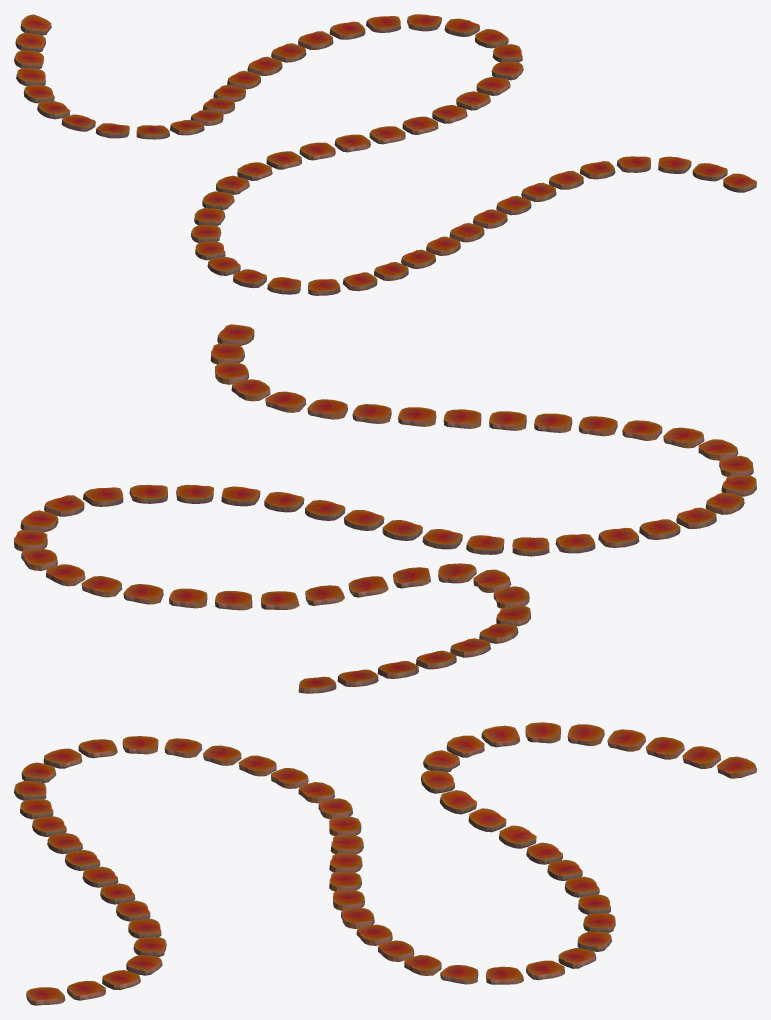
Rendered from tiles.fbx.
3 renders of one model, top to bottom at view 1: azimuth 30°, elevation 25°; view 2: azimuth 150°, elevation 25°; view 3: azimuth 270°, elevation 25°, orthographic. The views are drawn at different scales.
Visible parts, largest first — view 1: Tiles; view 2: Tiles; view 3: Tiles.
Boxes of the visible parts, x1=… form: Tiles: x1=14, y1=14, x2=756, y2=295; Tiles: x1=14, y1=324, x2=756, y2=693; Tiles: x1=14, y1=722, x2=756, y2=1005.
Size of the model in its own units: 1.63 by 0.0822 by 1.93.
